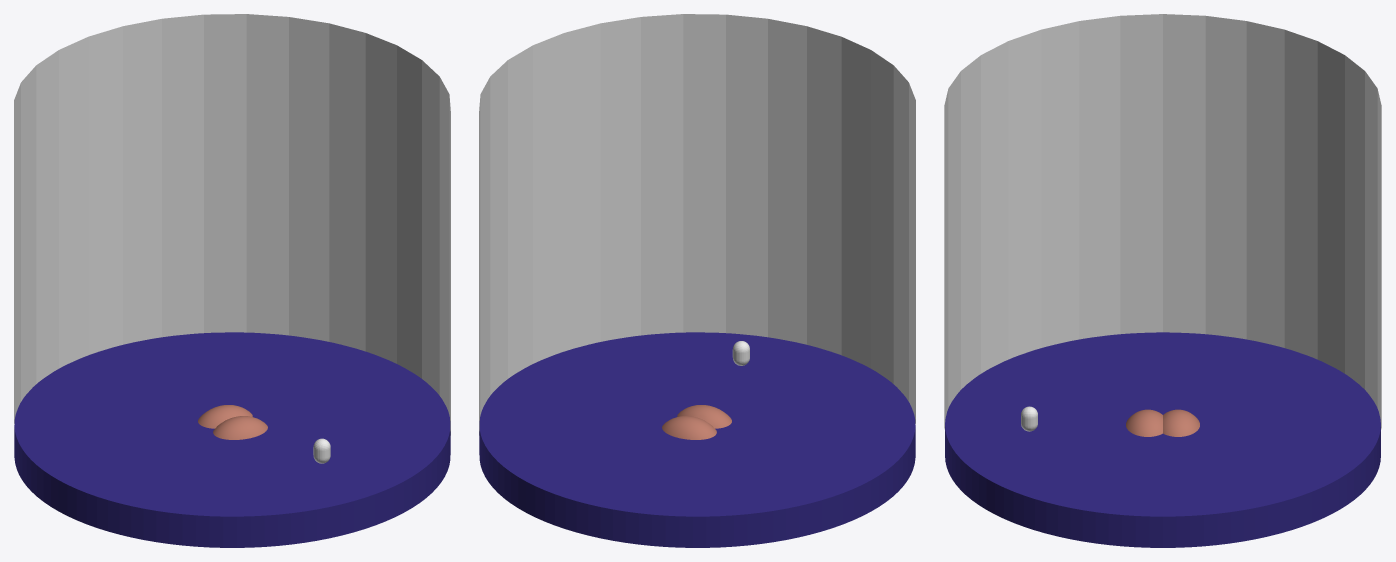
Rendered from howToPlay.glb.
The picture shows the model from 3 angles, left to right: view 1: azimuth 30°, elevation 25°; view 2: azimuth 150°, elevation 25°; view 3: azimuth 270°, elevation 25°; orthographic projection.
Parts seen in each view (by area): view 1: Border, Cylinder.001, Ass; view 2: Border, Cylinder.001, Ass; view 3: Border, Cylinder.001, Ass.
Part boxes in pixels (x1,y1,x2,y2): Border: (14, 14, 450, 435); Cylinder.001: (14, 332, 450, 547); Ass: (198, 405, 267, 439); Border: (479, 14, 915, 435); Cylinder.001: (479, 332, 915, 547); Ass: (662, 405, 731, 439); Border: (944, 14, 1381, 429); Cylinder.001: (945, 332, 1380, 547); Ass: (1126, 409, 1199, 436).
Size of the model in its own units: 50.63 by 44.6 by 50.63.
